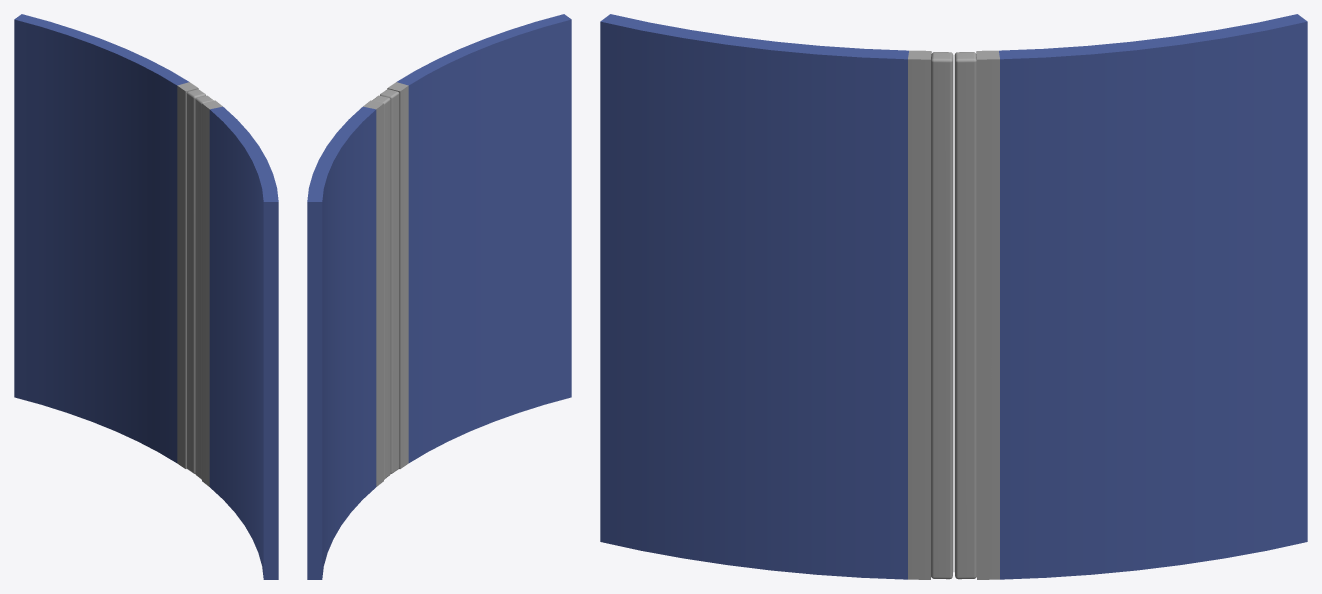
File: DoorsShaft.fbx
3 renders of one model, left to right at view 1: azimuth 30°, elevation 25°; view 2: azimuth 150°, elevation 25°; view 3: azimuth 270°, elevation 25°, orthographic. The views are drawn at different scales.
Parts seen in each view (by area): view 1: L_DoorShaft, R_DoorShaft; view 2: R_DoorShaft, L_DoorShaft; view 3: L_DoorShaft, R_DoorShaft.
Boxes of the visible parts, x1=… form: L_DoorShaft: x1=14, y1=14, x2=205, y2=473; R_DoorShaft: x1=195, y1=95, x2=278, y2=579; R_DoorShaft: x1=380, y1=14, x2=571, y2=473; L_DoorShaft: x1=307, y1=95, x2=390, y2=579; L_DoorShaft: x1=954, y1=14, x2=1307, y2=579; R_DoorShaft: x1=600, y1=14, x2=953, y2=579.
Size of the model in its own units: 52.56 by 278 by 342.
